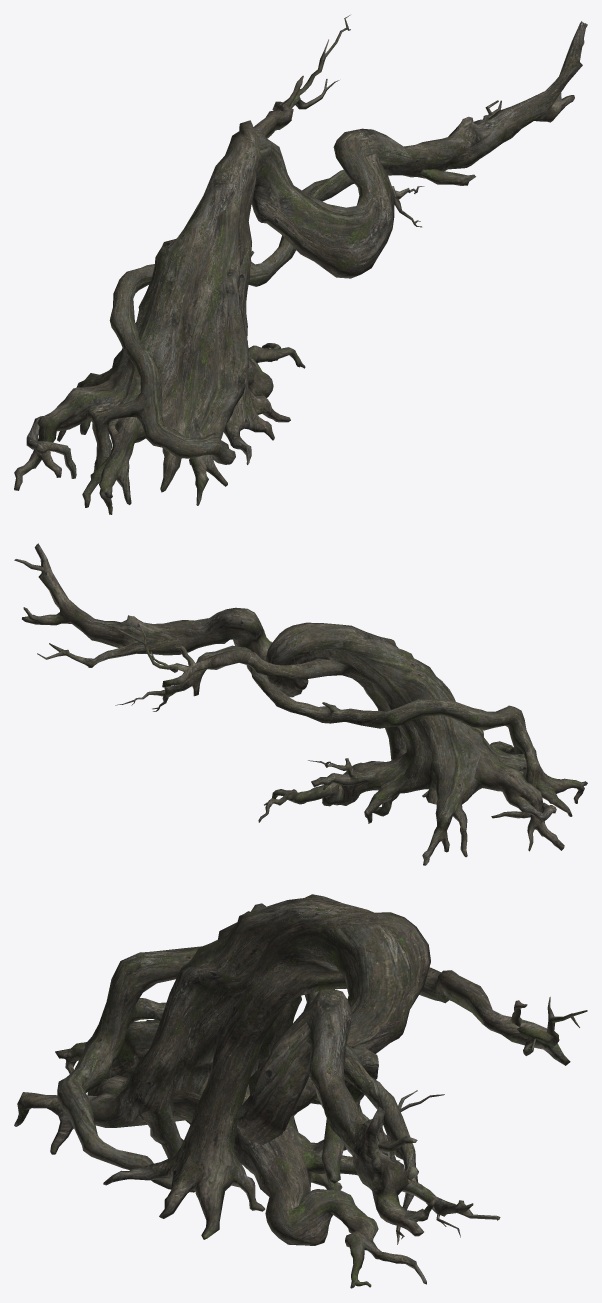
Rendered from Tree_Ancient_03.fbx.
The picture shows the model from 3 angles, top to bottom: view 1: azimuth 30°, elevation 25°; view 2: azimuth 150°, elevation 25°; view 3: azimuth 270°, elevation 25°; orthographic projection. The views are drawn at different scales.
Visible parts, largest first — view 1: Ancient_03_Trunk; view 2: Ancient_03_Trunk; view 3: Ancient_03_Trunk.
Part boxes in pixels (<box>): Ancient_03_Trunk: <box>14,15,587,514</box>; Ancient_03_Trunk: <box>14,543,587,865</box>; Ancient_03_Trunk: <box>14,894,587,1288</box>.
Size of the model in its own units: 1141 by 481 by 632.
1 material, 1 textured.
